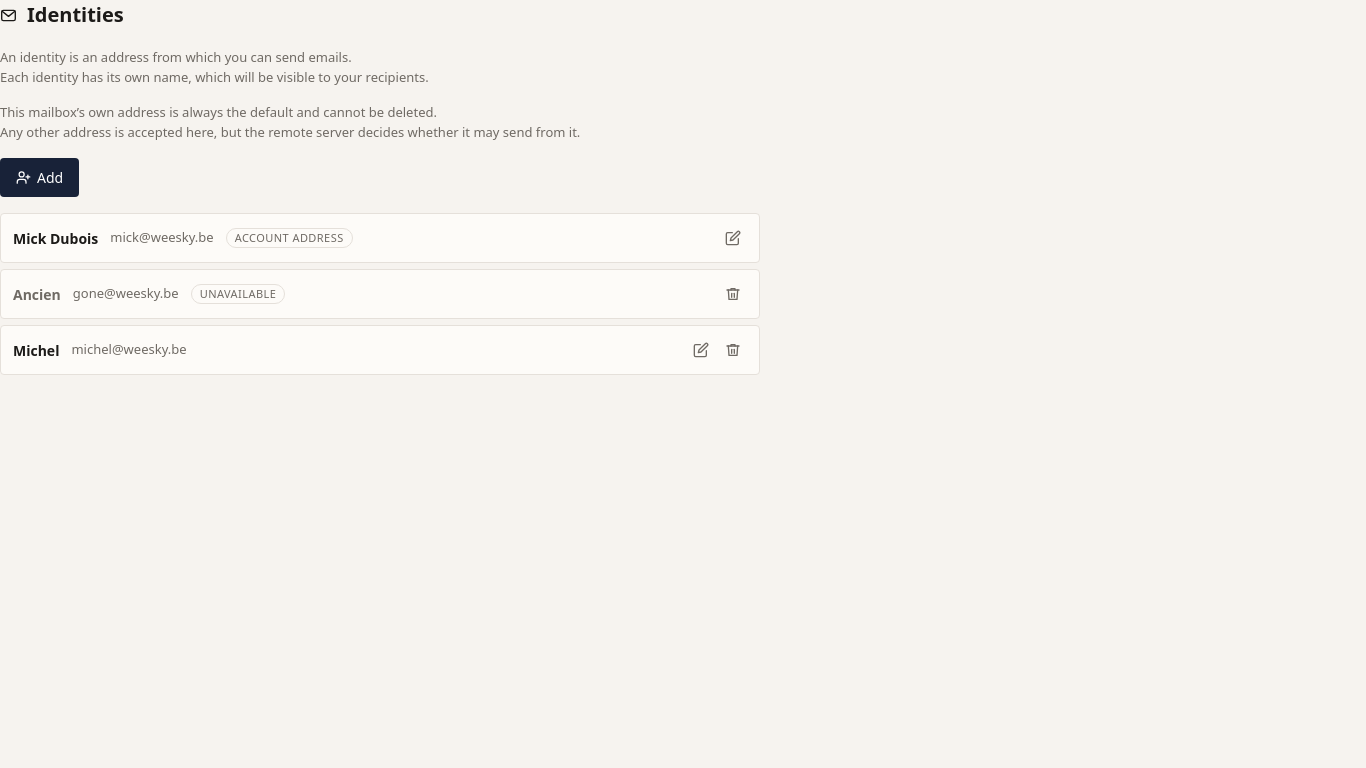
Test: IdentitiesPage › on the primary account when capabilities.strictIdentities is false › opens the add dialog in free-input mode, with no alias combobox
Click the button with aria-label "Add identity": [40, 178] box [0,158,79,197]
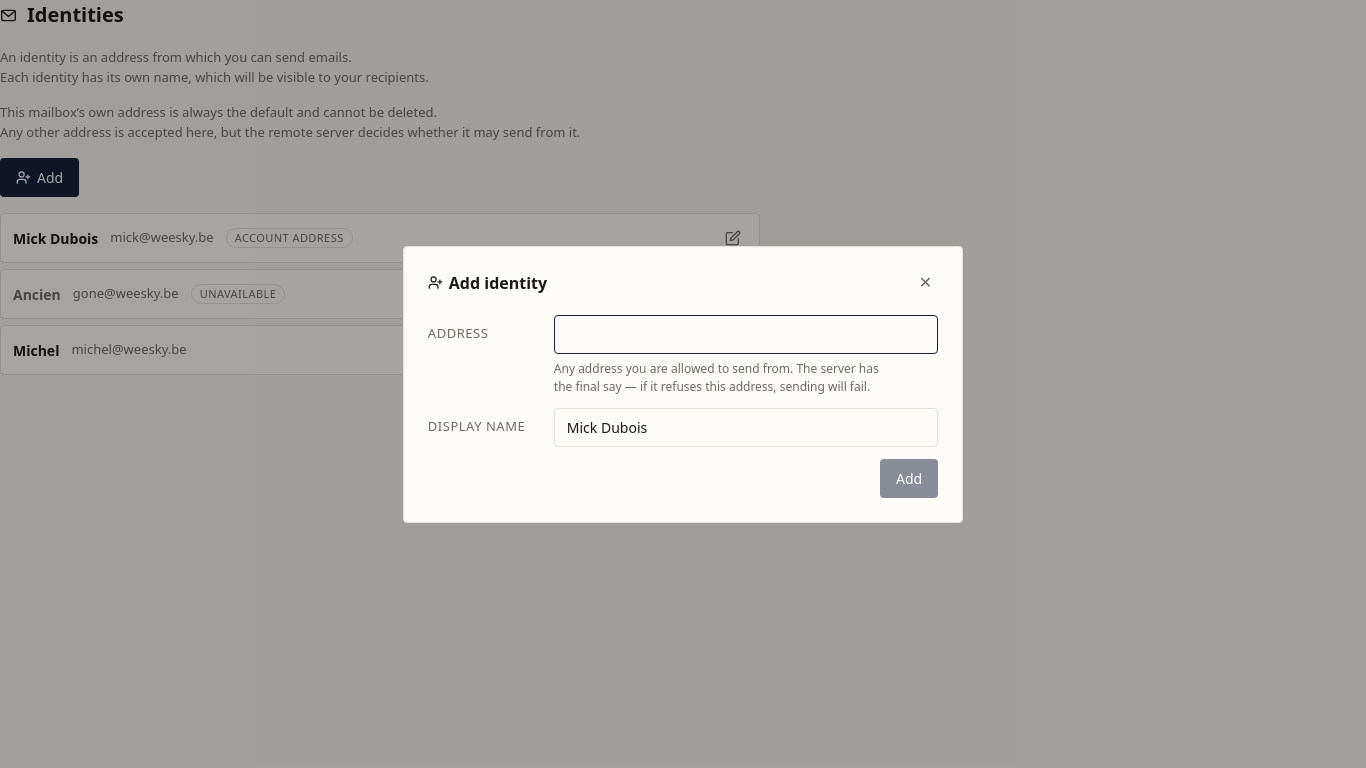
Check: the field labelled "Address" is shown, box [554,314,938,354]
